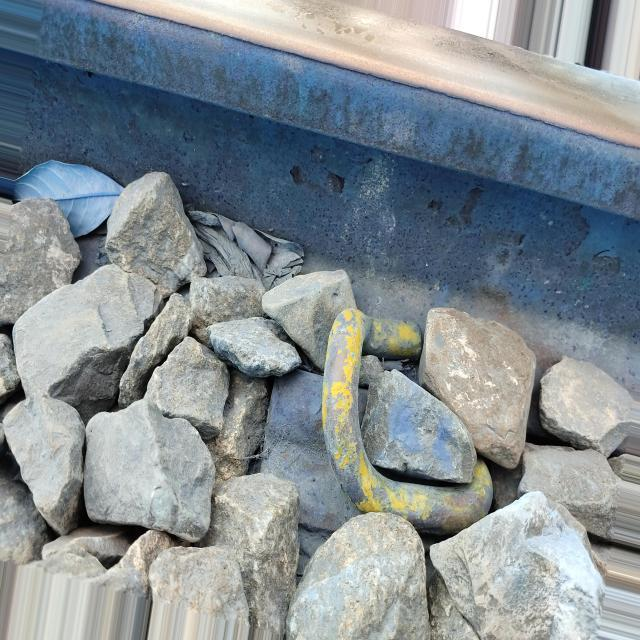Good Fasteners: (260, 308, 492, 557)
